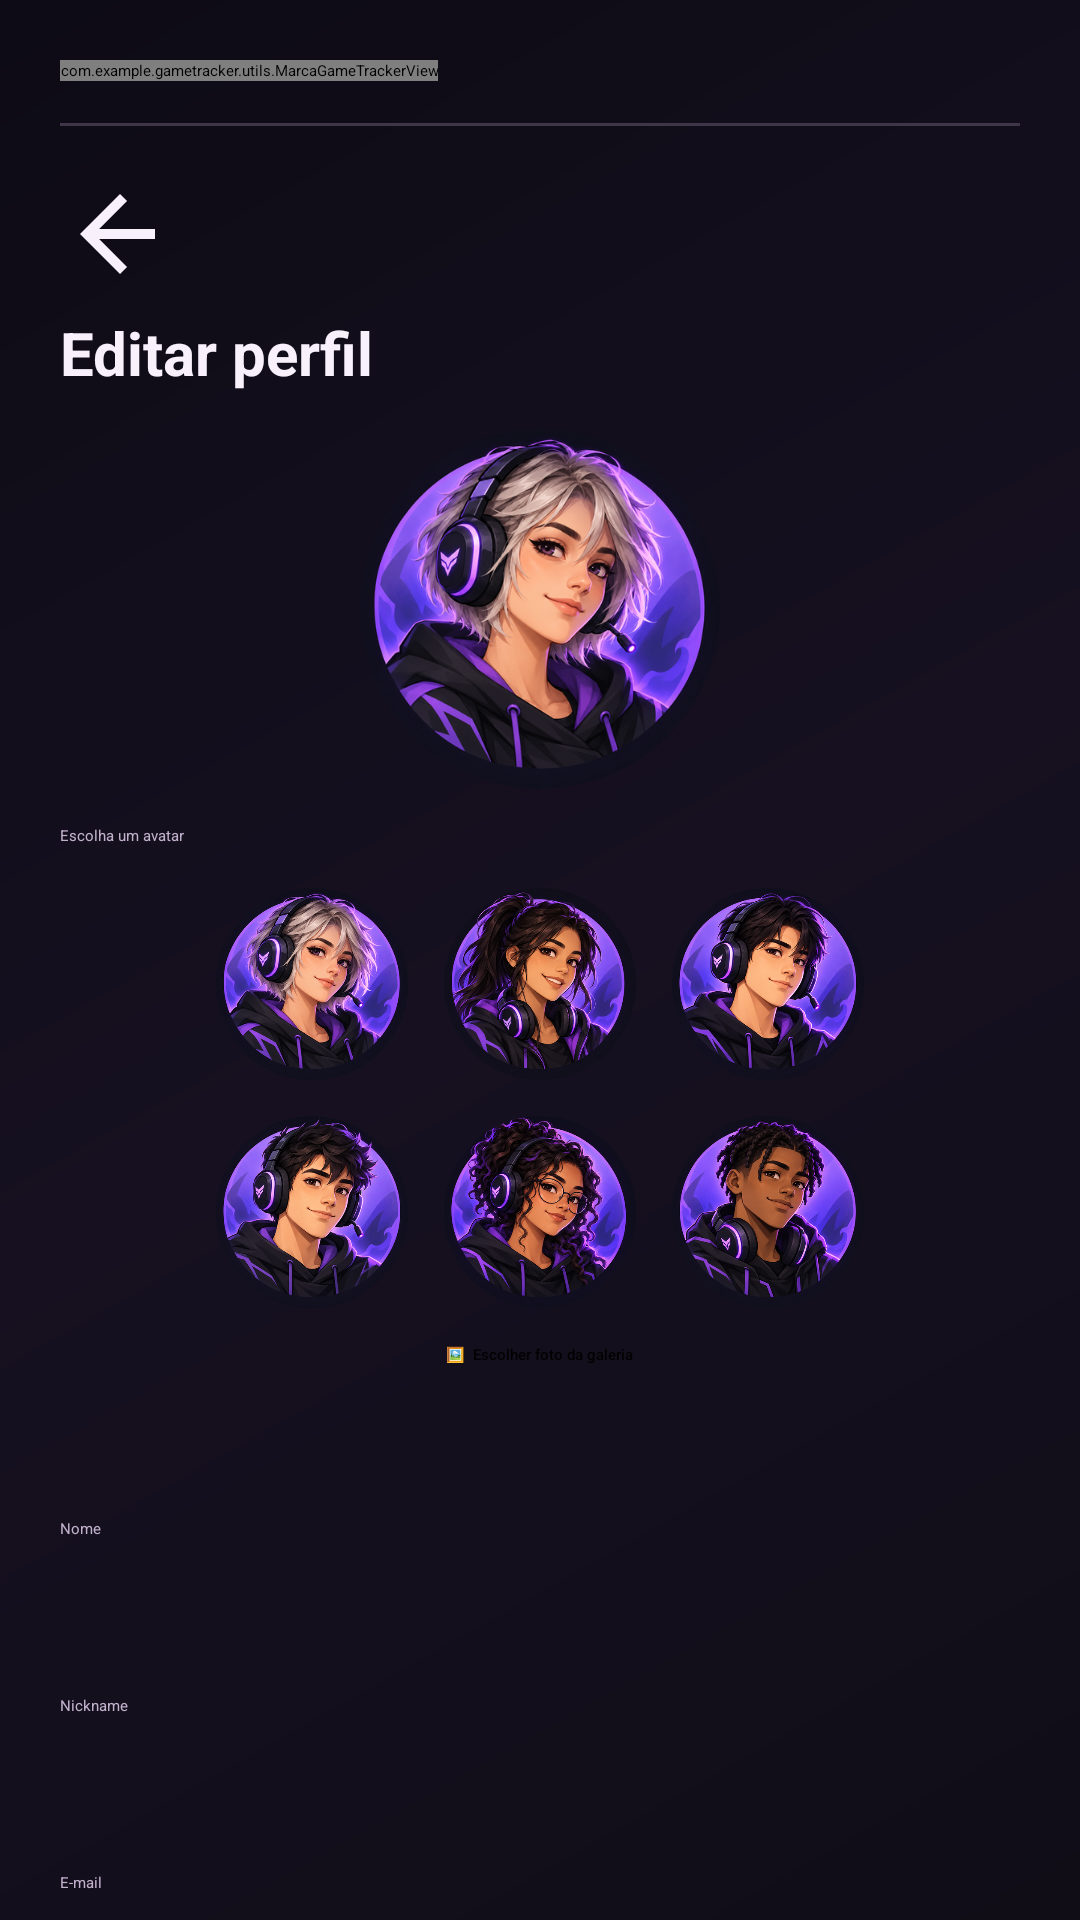

Named icons in this screenshot (1080×1920) and their bounding boxes, (x1, y1, x2, y2):
← Voltar: (80, 194, 155, 274)
